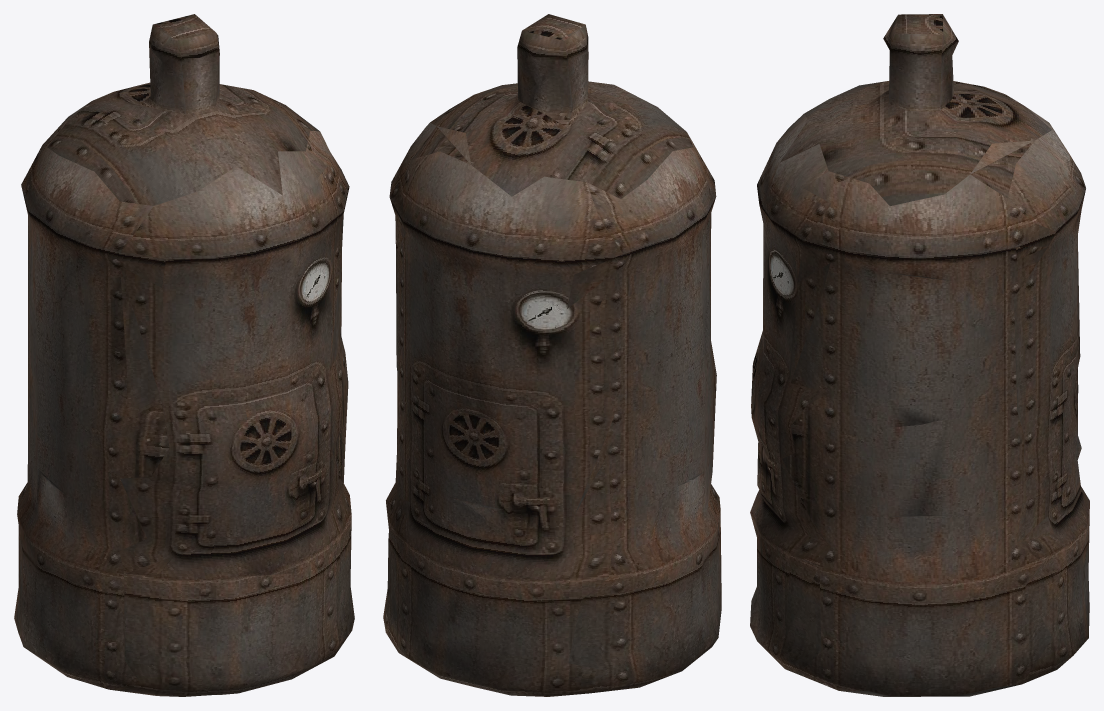
The model's file is boiler_high.glb.
3 views of the same model, side by side, from view 1: azimuth 30°, elevation 25°; view 2: azimuth 150°, elevation 25°; view 3: azimuth 270°, elevation 25° (orthographic).
Parts seen in each view (by area): view 1: boiler_high; view 2: boiler_high; view 3: boiler_high.
Boxes of the visible parts, x1,y1,x2,y2 form: boiler_high: [14, 14, 354, 696]; boiler_high: [383, 14, 721, 696]; boiler_high: [750, 14, 1089, 696].
Size of the model in its own units: 1.18 by 2.39 by 1.18.
Materials: 1 (1 with a texture image).
